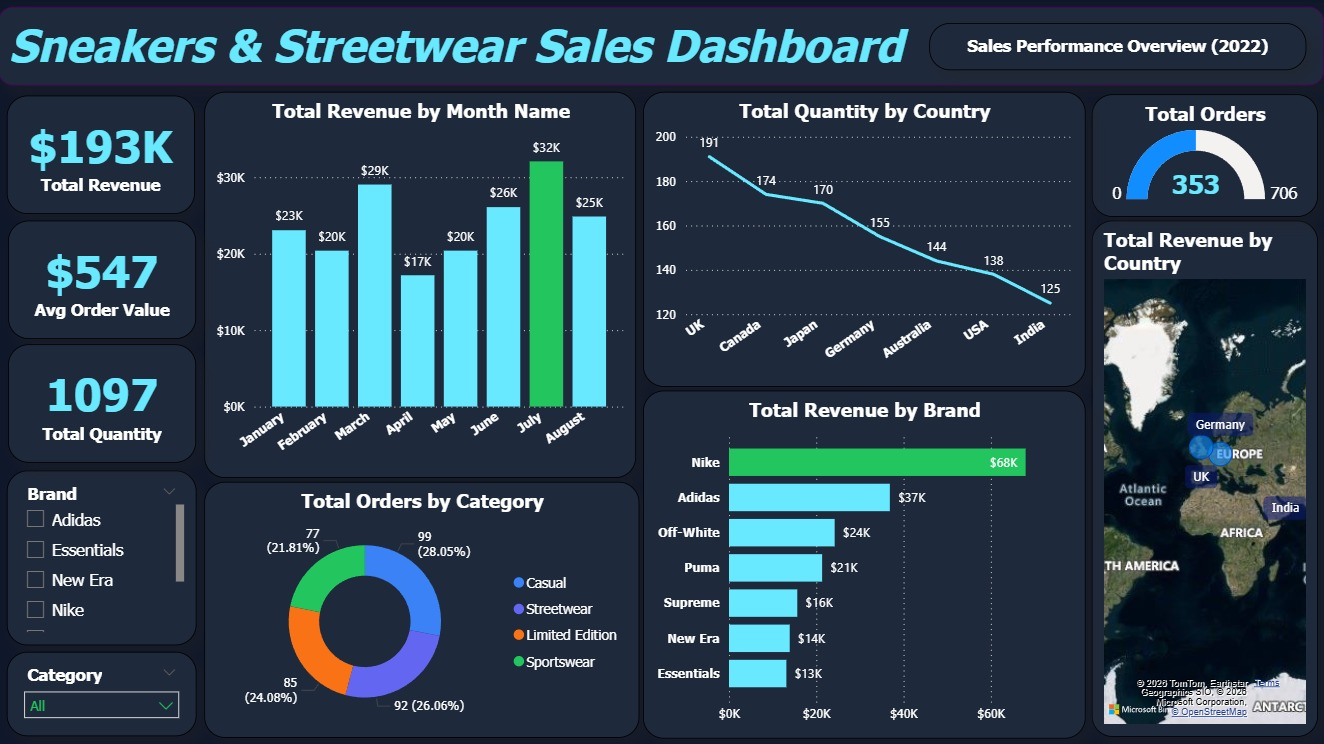

The page's visual inventory and layout, read from the dashboard file:
{"tool":"powerbi","page":{"name":"Dashboard","canvas":[1280,720],"ordinal":0},"visuals":[{"type":"textbox","box":[0,8.6,1280,75.7],"z":0},{"type":"map","fields":{"Size":["sneakers_streetwear_sales_data.Total Revenue"],"Category":["sneakers_streetwear_sales_data.Country"]},"box":[1055.7,214.3,218.6,498.6],"z":1000},{"type":"card","fields":{"Values":["sneakers_streetwear_sales_data.Total Revenue"]},"box":[8.6,94.3,181.4,114.3],"z":2000},{"type":"gauge","fields":{"Y":["sneakers_streetwear_sales_data.Total Orders"]},"box":[1055.6,92.9,218.4,118.2],"z":3000},{"type":"slicer","fields":{"Values":["sneakers_streetwear_sales_data.Brand"]},"box":[8.6,455.7,182.9,168.6],"z":4000},{"type":"slicer","fields":{"Values":["sneakers_streetwear_sales_data.Category"]},"box":[8.6,631.4,182.9,81.4],"z":5000},{"type":"clusteredColumnChart","fields":{"Y":["sneakers_streetwear_sales_data.Total Revenue"],"Category":["sneakers_streetwear_sales_data.Month Name"]},"box":[198.6,90,417.1,372.9],"z":6000},{"type":"lineChart","fields":{"Category":["sneakers_streetwear_sales_data.Country"],"Y":["sneakers_streetwear_sales_data.Total Quantity"]},"box":[622.5,90.5,427.1,284.7],"z":7000},{"type":"donutChart","fields":{"Category":["sneakers_streetwear_sales_data.Category"],"Y":["sneakers_streetwear_sales_data.Total Orders"]},"box":[198.6,467.1,420,247.1],"z":8000},{"type":"clusteredBarChart","fields":{"Y":["sneakers_streetwear_sales_data.Total Revenue"],"Category":["sneakers_streetwear_sales_data.Brand"]},"box":[622.9,378.6,427.1,335.7],"z":9000},{"type":"card","fields":{"Values":["sneakers_streetwear_sales_data.Avg Order Value"]},"box":[10,214.3,181.4,114.3],"z":10000},{"type":"card","fields":{"Values":["sneakers_streetwear_sales_data.Total Quantity"]},"box":[10,334.3,181.4,114.3],"z":11000},{"type":"textbox","box":[898.6,24.3,364.3,45.7],"z":12000}]}

Visuals, with their boxes in screenshot pixels (x1, y1, x2, y2), scaled from the page's 1280x720 canvas onto the 1324x744 screenshot:
textbox: 0/9/1323/87
map - sneakers_streetwear_sales_data.Total Revenue x sneakers_streetwear_sales_data.Country: 1092/221/1318/737
card - sneakers_streetwear_sales_data.Total Revenue: 9/97/197/216
gauge - sneakers_streetwear_sales_data.Total Orders: 1092/96/1318/218
slicer - sneakers_streetwear_sales_data.Brand: 9/471/198/645
slicer - sneakers_streetwear_sales_data.Category: 9/652/198/737
clusteredColumnChart - sneakers_streetwear_sales_data.Total Revenue x sneakers_streetwear_sales_data.Month Name: 205/93/637/478
lineChart - sneakers_streetwear_sales_data.Country x sneakers_streetwear_sales_data.Total Quantity: 644/94/1086/388
donutChart - sneakers_streetwear_sales_data.Category x sneakers_streetwear_sales_data.Total Orders: 205/483/640/738
clusteredBarChart - sneakers_streetwear_sales_data.Total Revenue x sneakers_streetwear_sales_data.Brand: 644/391/1086/738
card - sneakers_streetwear_sales_data.Avg Order Value: 10/221/198/340
card - sneakers_streetwear_sales_data.Total Quantity: 10/345/198/464
textbox: 929/25/1306/72
